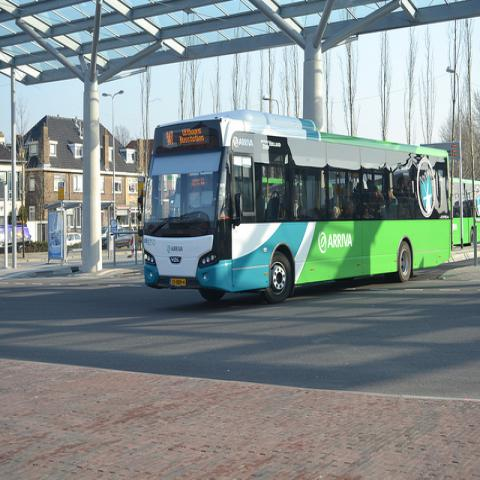bus: (143, 110, 453, 302), (452, 177, 480, 248)
car: (115, 228, 134, 250), (66, 230, 82, 246), (101, 226, 108, 249)
